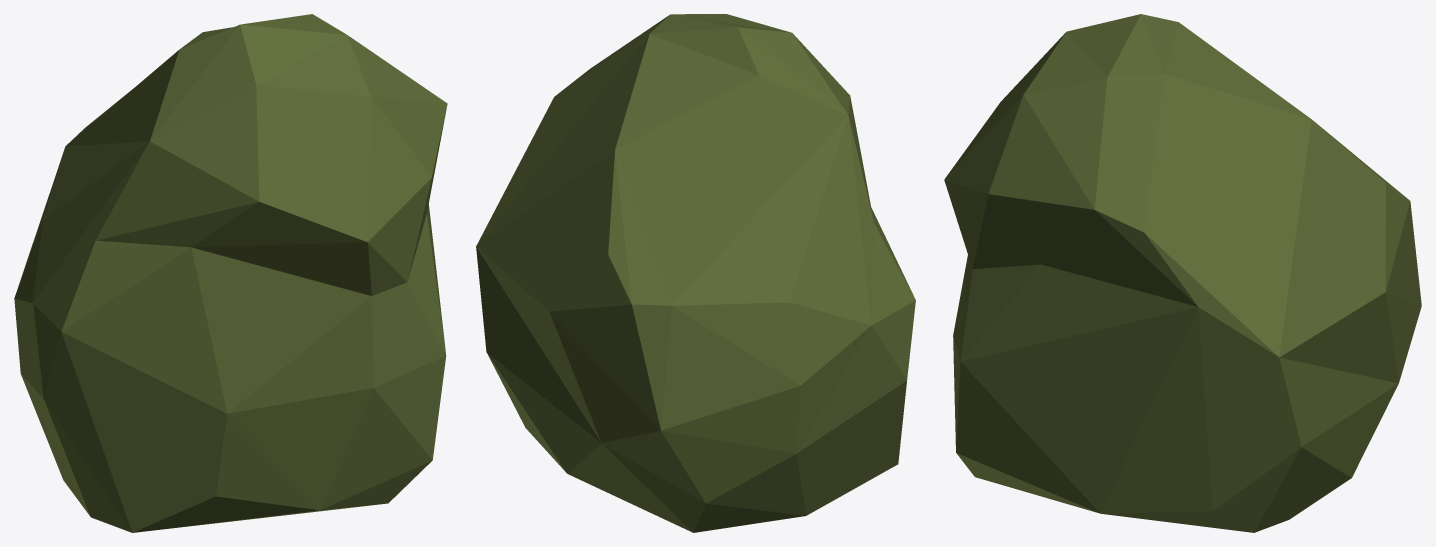
Rendered from bush_d.glb.
3 views of the same model, side by side, from view 1: azimuth 30°, elevation 25°; view 2: azimuth 150°, elevation 25°; view 3: azimuth 270°, elevation 25° (orthographic). The views are drawn at different scales.
Visible parts, largest first — view 1: SM_Env_Bush_04; view 2: SM_Env_Bush_04; view 3: SM_Env_Bush_04.
Boxes of the visible parts, x1,y1,x2,y2 form: SM_Env_Bush_04: (14, 14, 447, 532); SM_Env_Bush_04: (476, 14, 915, 532); SM_Env_Bush_04: (944, 14, 1421, 532).
Bounding box in the file's own units: 117 × 129 × 120.
Materials: 1 (1 with a texture image).
